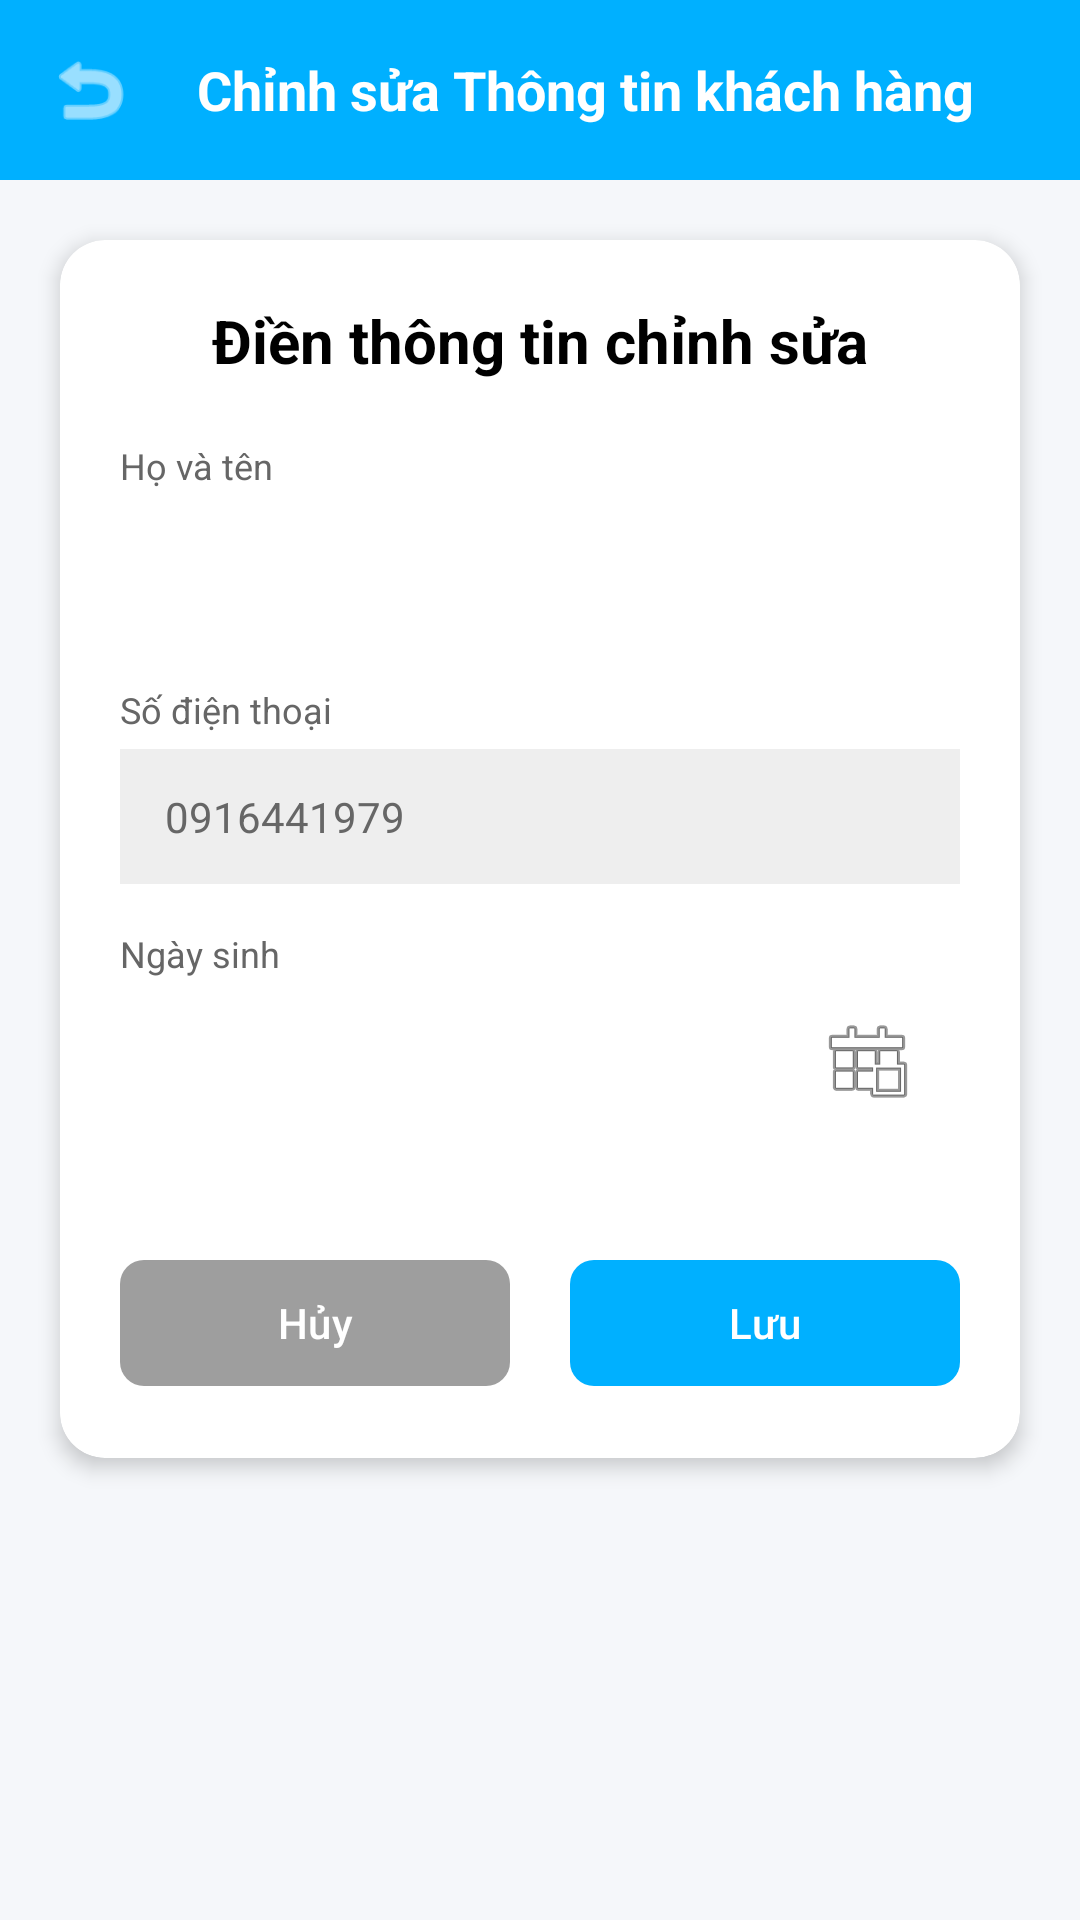

Locate icon controls on the screen. Image size 1080px x 1920px, boxes as (x1, y1, x2, y2).
revert: (59, 61, 124, 120)
